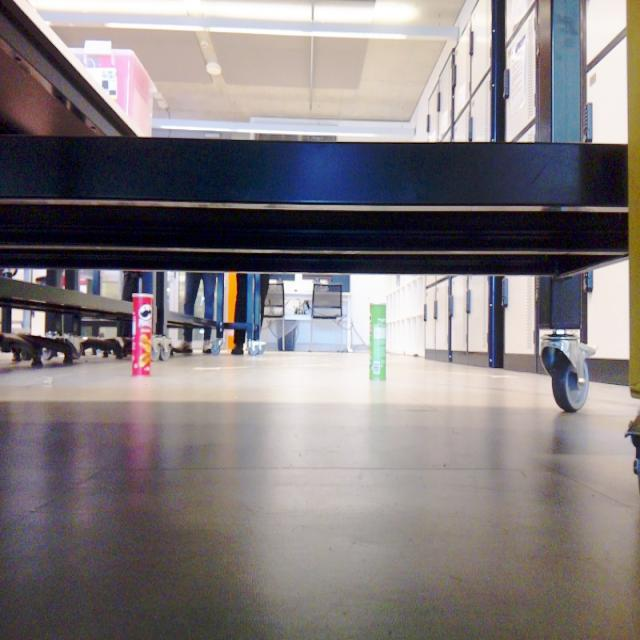greenpringles: (353, 294, 397, 396)
redpringles: (122, 278, 159, 388)
